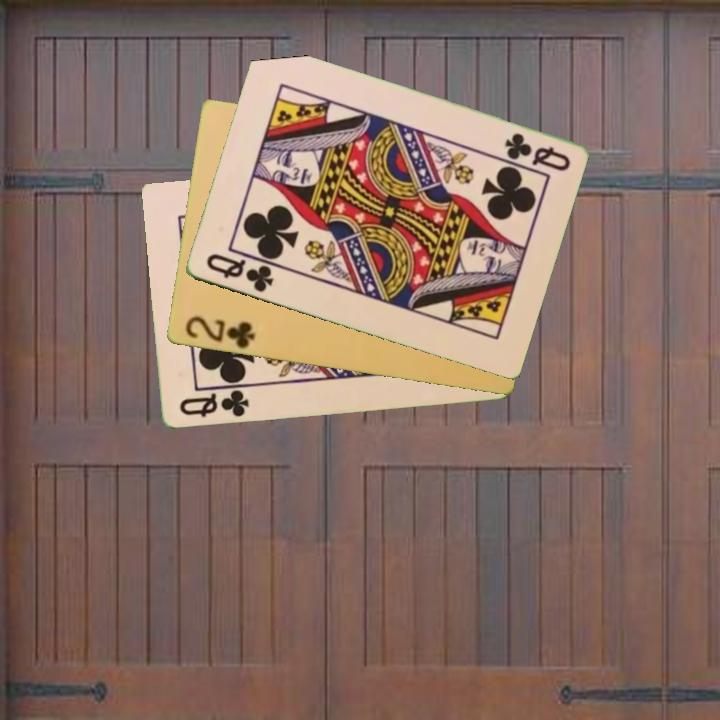2c: (181, 313, 258, 352)
Qc: (202, 250, 276, 296), (500, 129, 573, 175), (175, 384, 252, 420)
